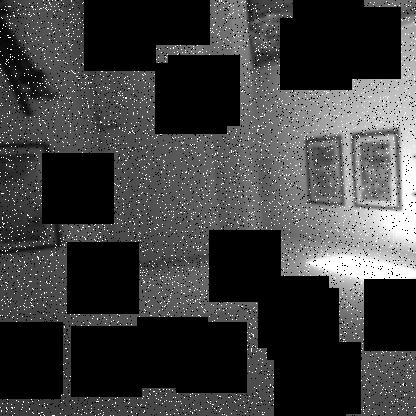Porte: (69, 1, 250, 284)
